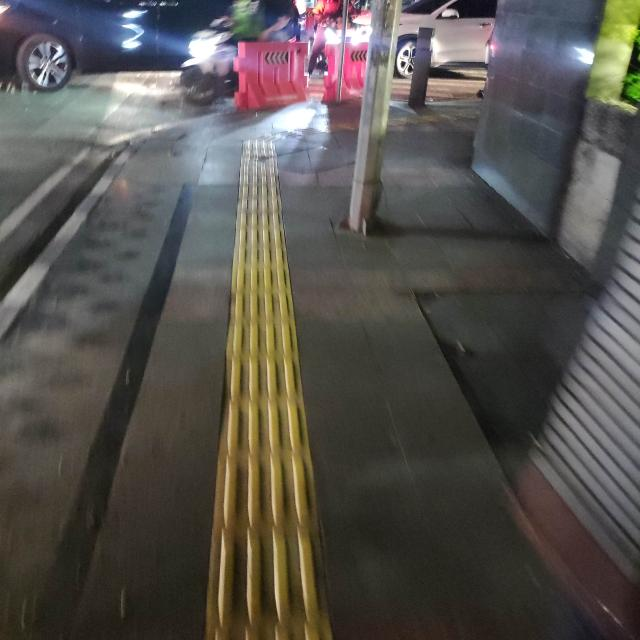lurus: (222, 166, 318, 638)
